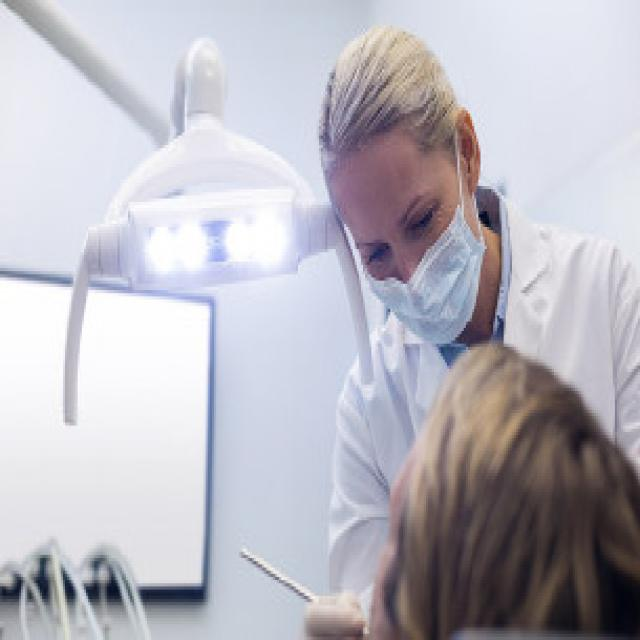mask: (337, 131, 477, 348)
